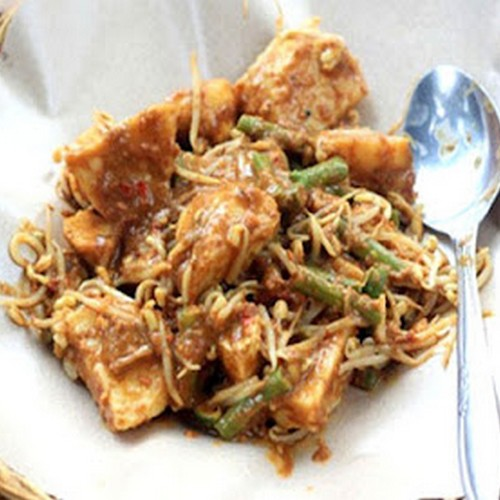tipat cantok: (5, 36, 426, 443)
